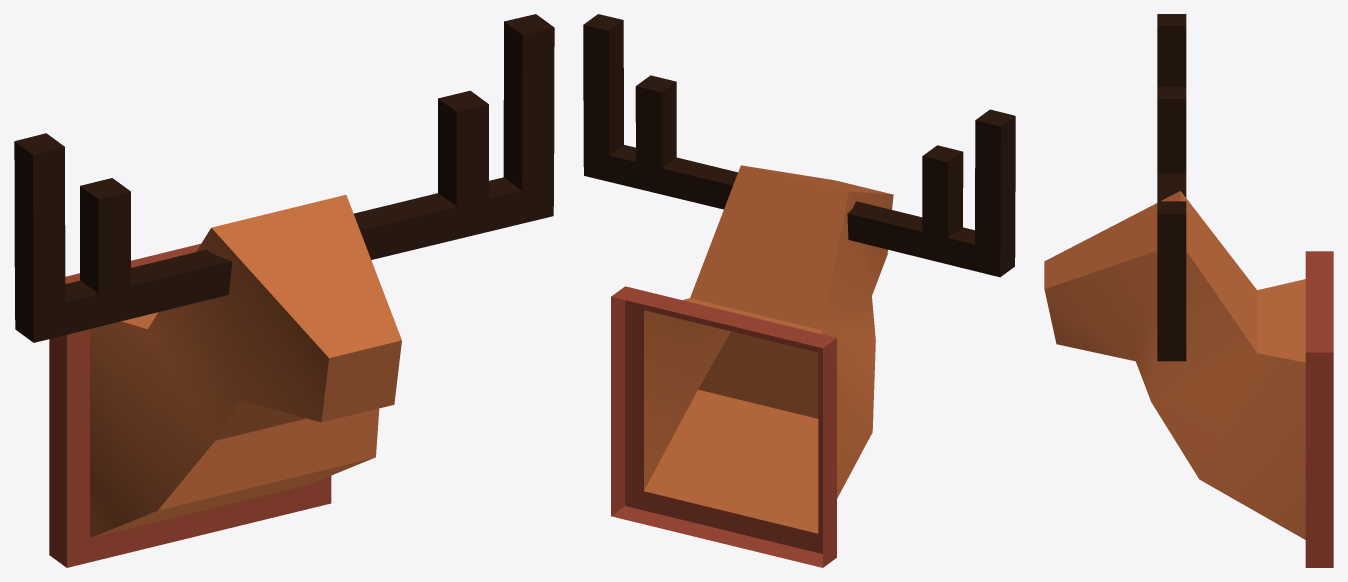
File: Animal Head 01.FBX
3 views of the same model, side by side, from view 1: azimuth 30°, elevation 25°; view 2: azimuth 150°, elevation 25°; view 3: azimuth 270°, elevation 25° (orthographic). The views are drawn at different scales.
Visible parts, largest first — view 1: Animal Head 01; view 2: Animal Head 01; view 3: Animal Head 01.
Part boxes in pixels (x1,y1,x2,y2): Animal Head 01: (14,14,554,567); Animal Head 01: (583,14,1015,567); Animal Head 01: (1044,14,1333,567).
Size of the model in its own units: 130 by 122 by 79.4.
